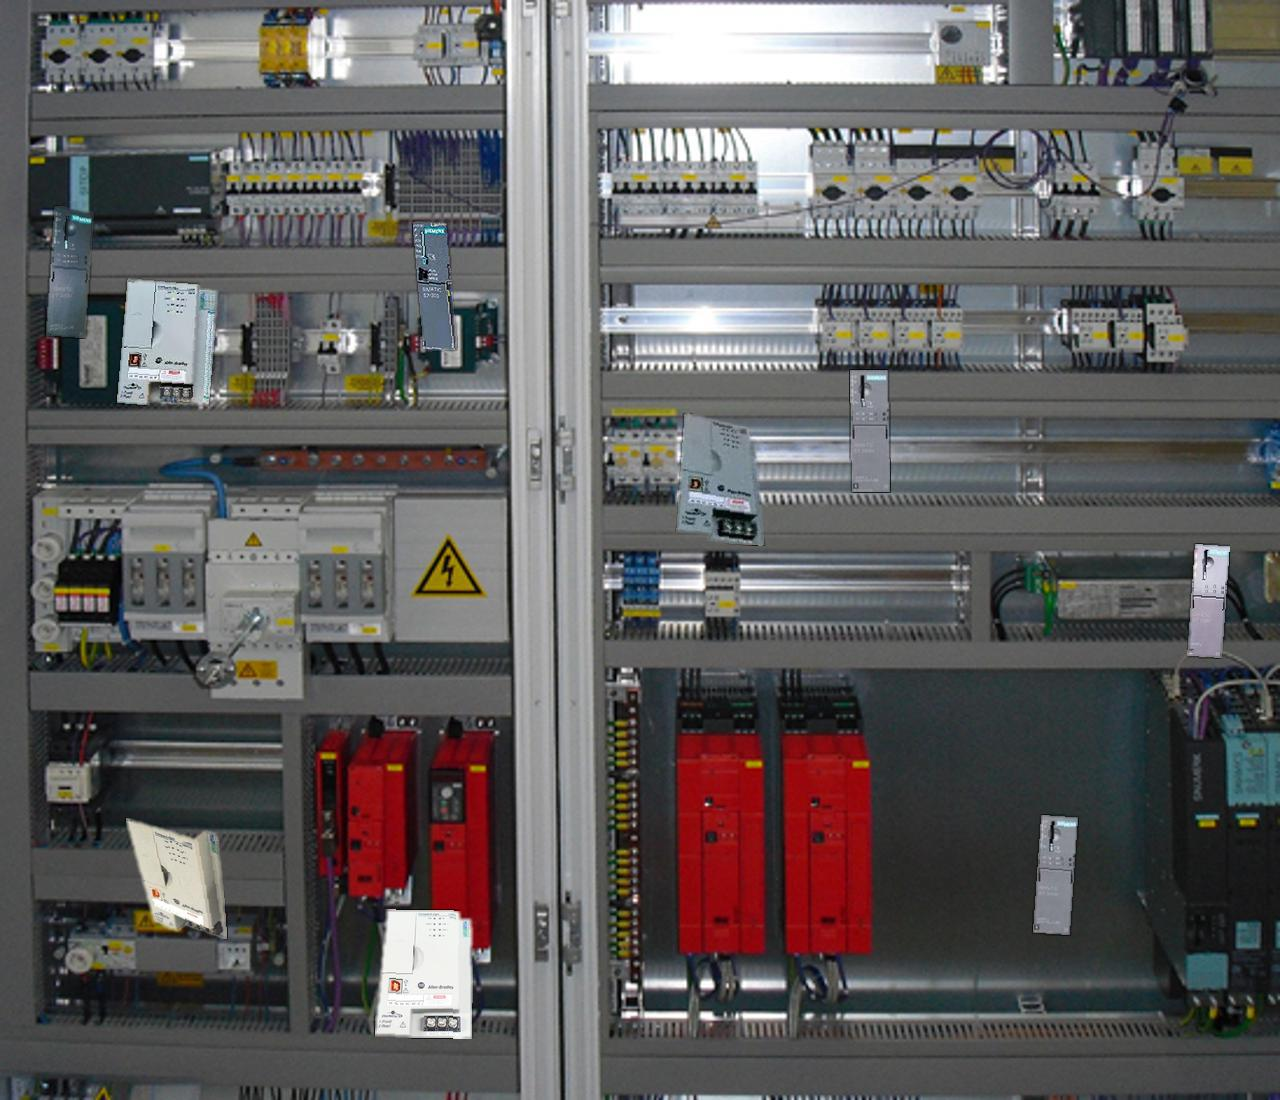AllenBradley: (376, 910, 471, 1038), (116, 280, 216, 404), (126, 818, 226, 938), (677, 413, 763, 545)
Siemens: (413, 221, 456, 350)
